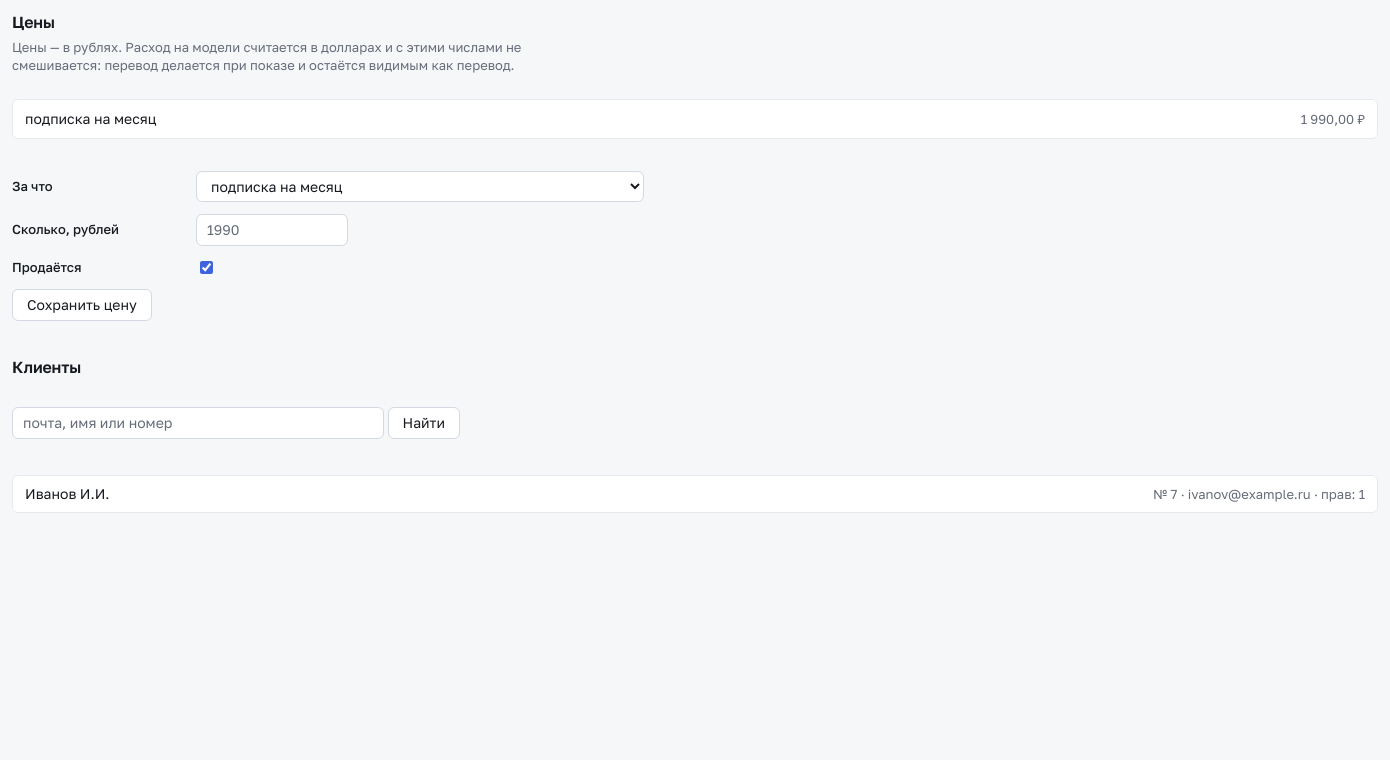
продажи › врач без живых прав назван так прямо, а не пустым списком
Click the text "Иванов И.И.".
click(67, 494)  # box x1=25 y1=484 x2=110 y2=504
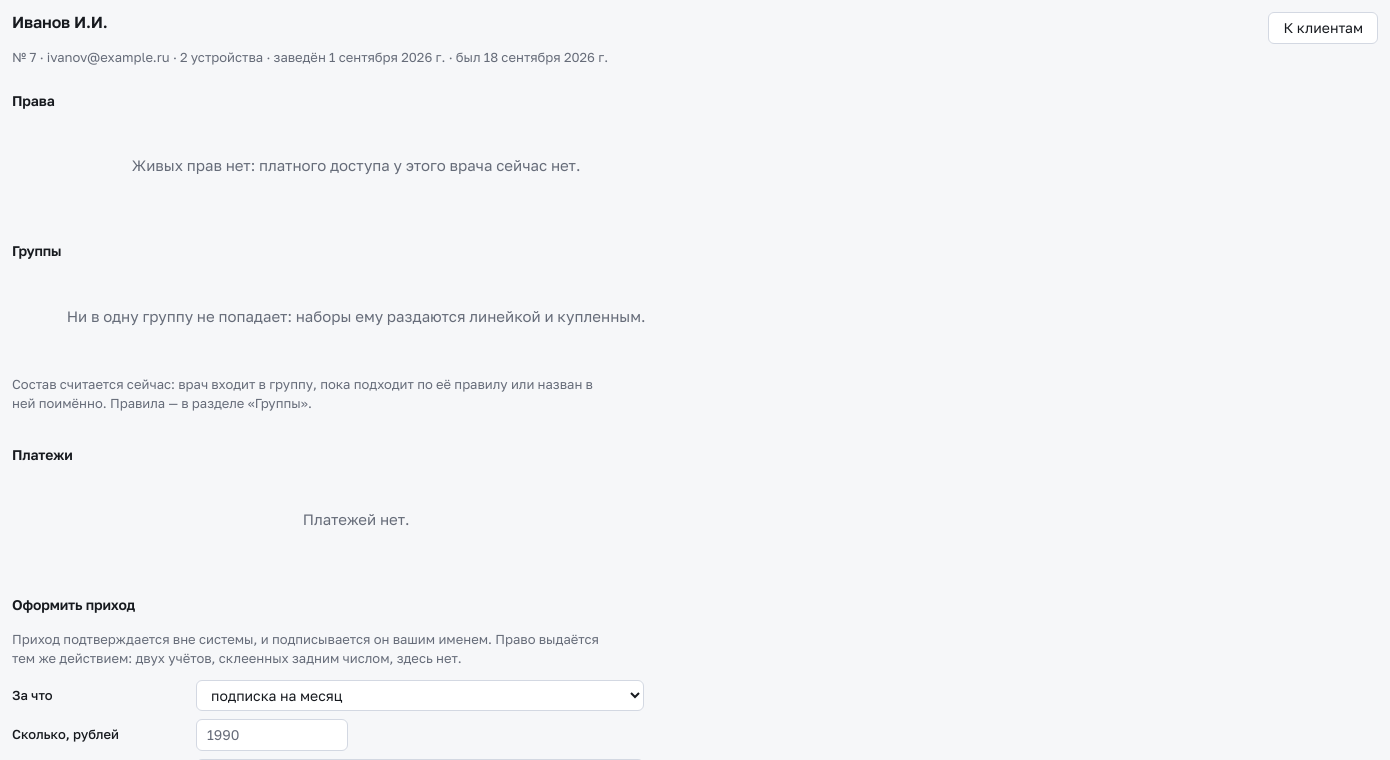
Now the text "Живых прав нет: платного доступа у этого врача сейчас нет." is shown, box x1=132 y1=156 x2=580 y2=174
